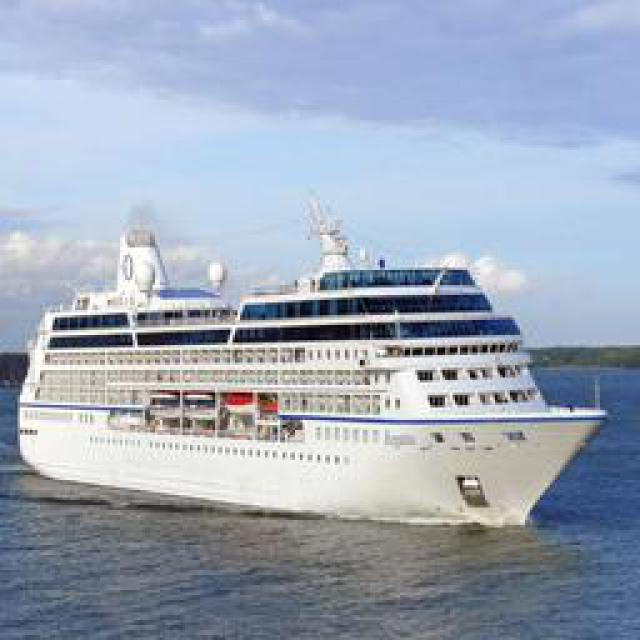Ship: (17, 206, 605, 526)
